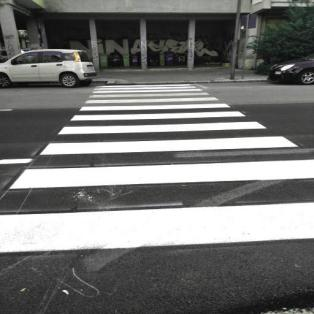Paso de Cebra: (30, 120, 310, 158), (80, 91, 224, 105)
